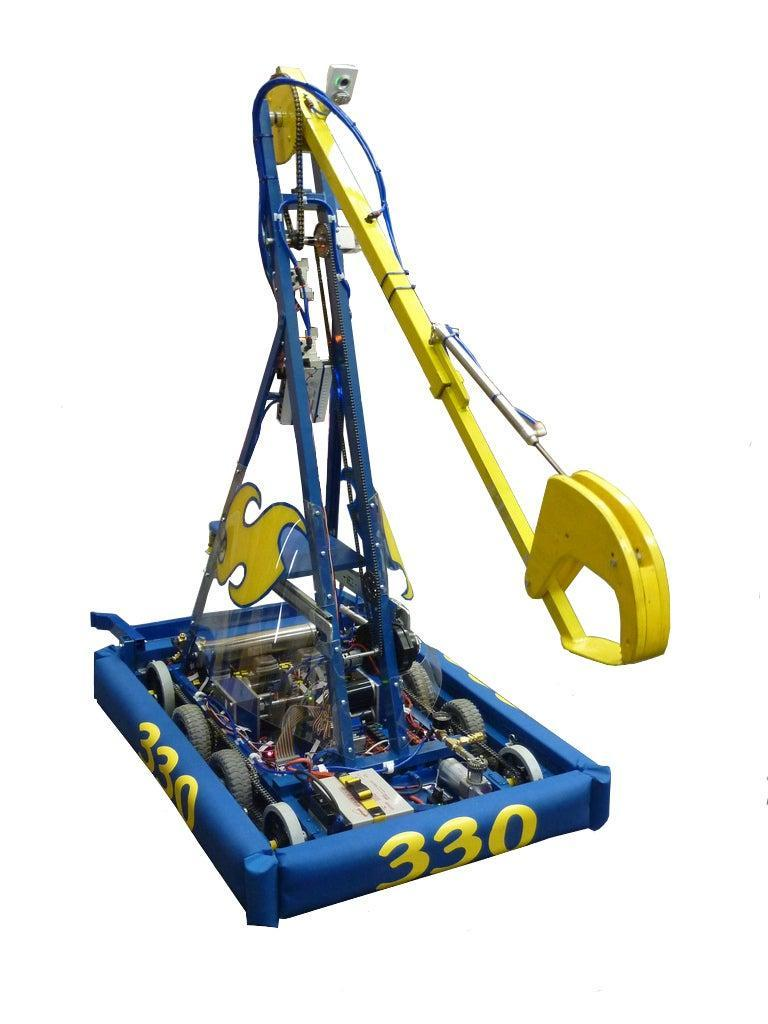robot: (78, 46, 688, 942)
